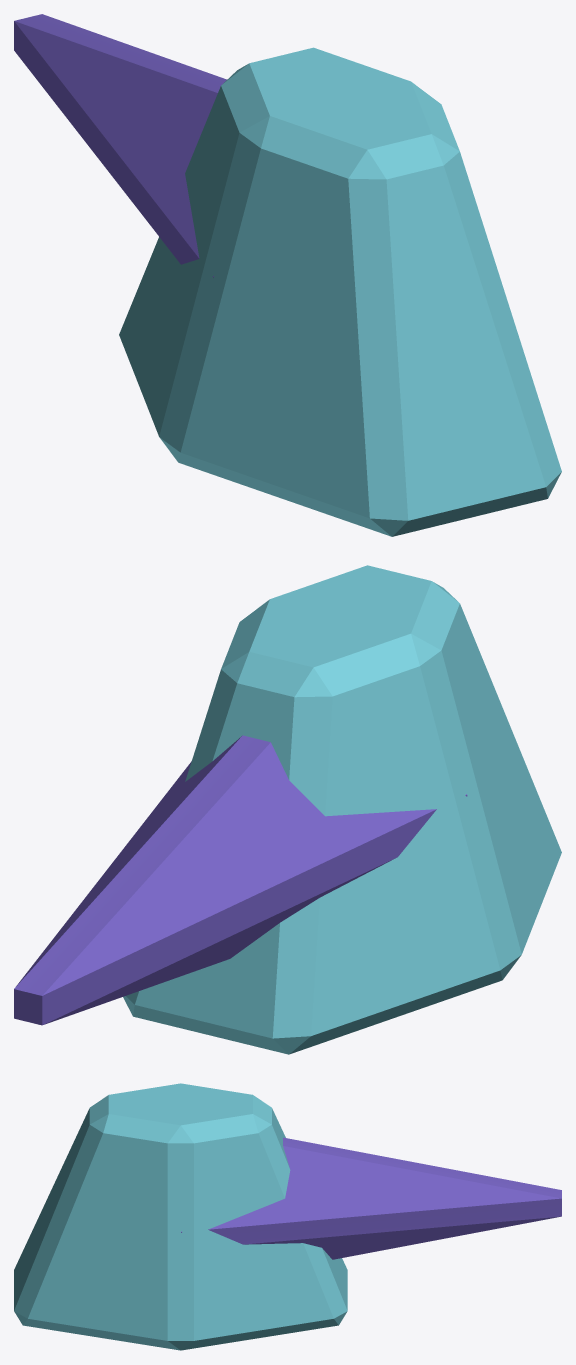
File: magic_missile.glb
3 views of the same model, one above another, from view 1: azimuth 30°, elevation 25°; view 2: azimuth 150°, elevation 25°; view 3: azimuth 270°, elevation 25° (orthographic). The views are drawn at different scales.
Parts seen in each view (by area): view 1: projectile.001; view 2: projectile.001; view 3: projectile.001.
Boxes of the visible parts, x1,y1,x2,y2 form: projectile.001: (14, 14, 561, 536); projectile.001: (14, 565, 561, 1054); projectile.001: (14, 1083, 561, 1350).
Size of the model in its own units: 0.2421 by 0.22 by 0.552.
